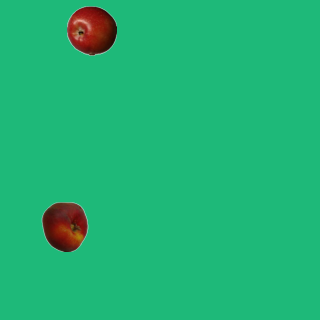Apple Braeburn: (66, 5, 116, 55)
Nectarine Flat: (39, 201, 89, 251)
